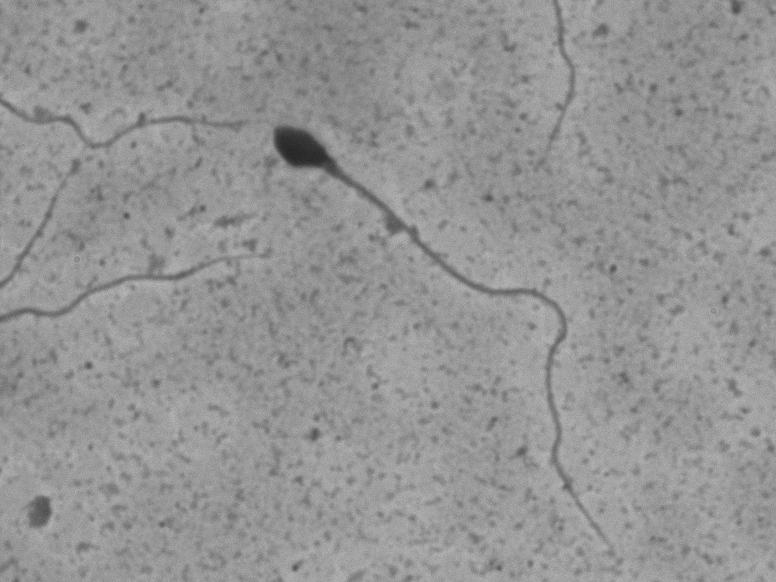Abnormal: (256, 110, 634, 567)
